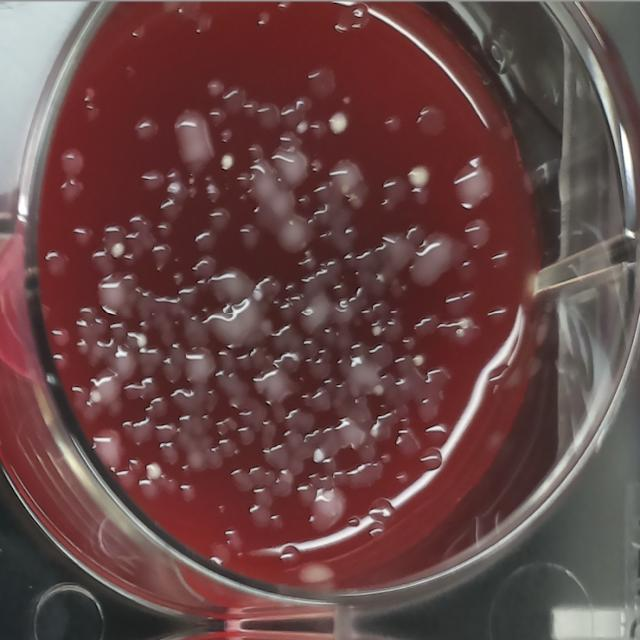Staphylococcus: (404, 163, 431, 192), (326, 110, 352, 136), (144, 459, 165, 484), (107, 240, 126, 262), (218, 151, 236, 173), (410, 352, 427, 371), (311, 447, 327, 467), (295, 118, 310, 137), (89, 388, 104, 407), (168, 178, 182, 198), (371, 382, 385, 400), (134, 332, 148, 349), (371, 322, 384, 339)
